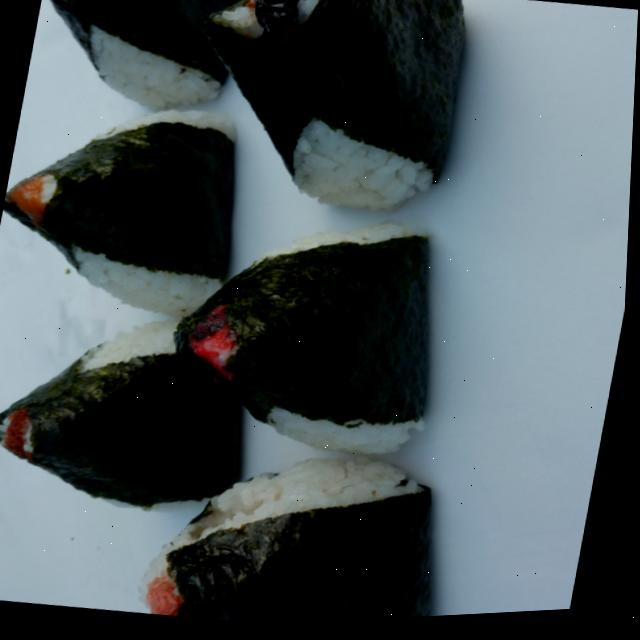米饭主食: (149, 198, 484, 488), (160, 0, 498, 256), (138, 426, 491, 633), (0, 286, 286, 539), (0, 93, 256, 347), (21, 0, 268, 138)
